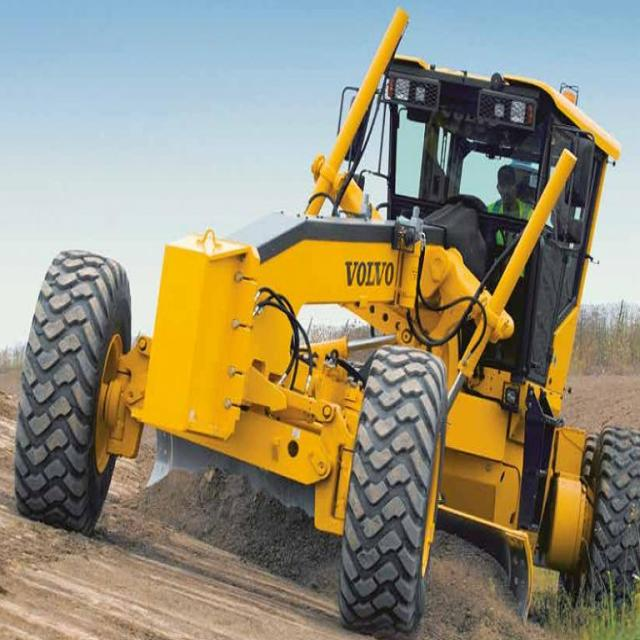buldozerpayloadergrader: (21, 29, 637, 639)
